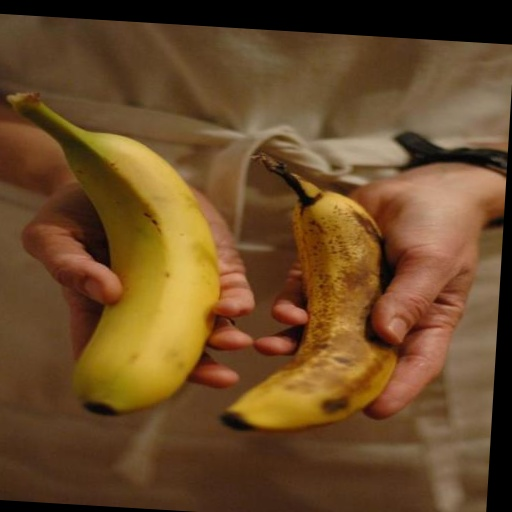fruit: (8, 94, 220, 414), (223, 155, 396, 430)
